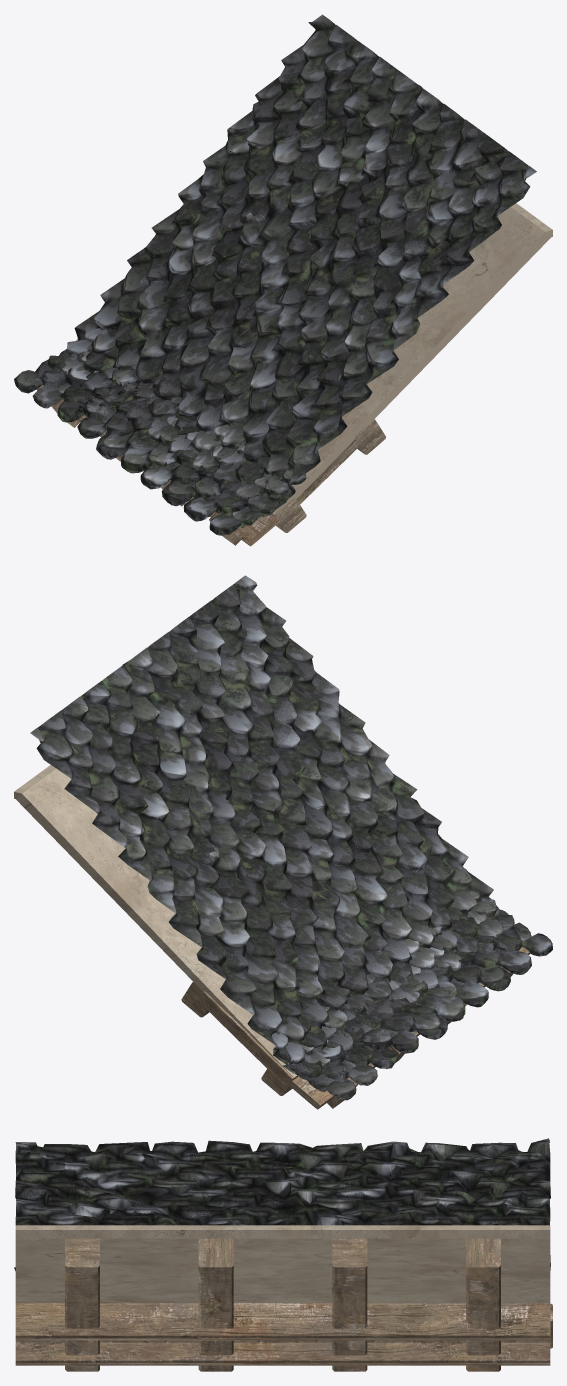
Rendered from SM_Roof_A_01.fbx.
3 renders of one model, top to bottom at view 1: azimuth 30°, elevation 25°; view 2: azimuth 150°, elevation 25°; view 3: azimuth 270°, elevation 25°, orthographic. The views are drawn at different scales.
Parts seen in each view (by area): view 1: SM_Roof_A_01_LOD0; view 2: SM_Roof_A_01_LOD0; view 3: SM_Roof_A_01_LOD0.
Boxes of the visible parts, x1,y1,x2,y2 form: SM_Roof_A_01_LOD0: (14,14,552,546); SM_Roof_A_01_LOD0: (14,575,552,1109); SM_Roof_A_01_LOD0: (14,1138,552,1371).
Bounding box in the file's own units: 371 × 403 × 331.
